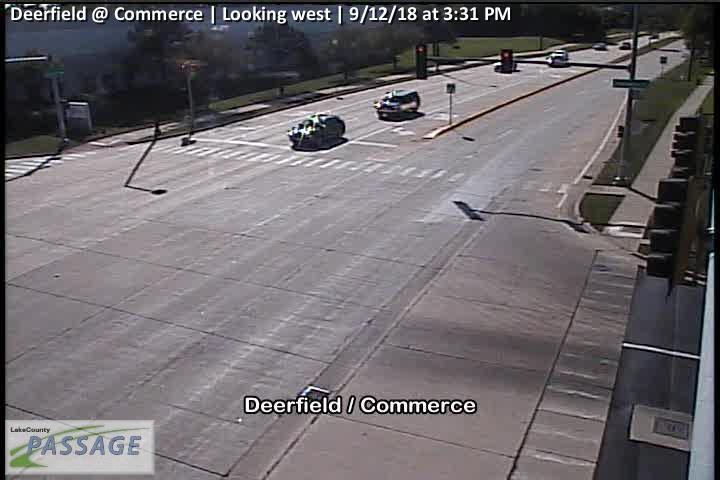Sedan: (287, 113, 344, 148), (375, 88, 419, 122), (492, 62, 517, 73), (550, 49, 567, 61), (591, 41, 607, 49)
